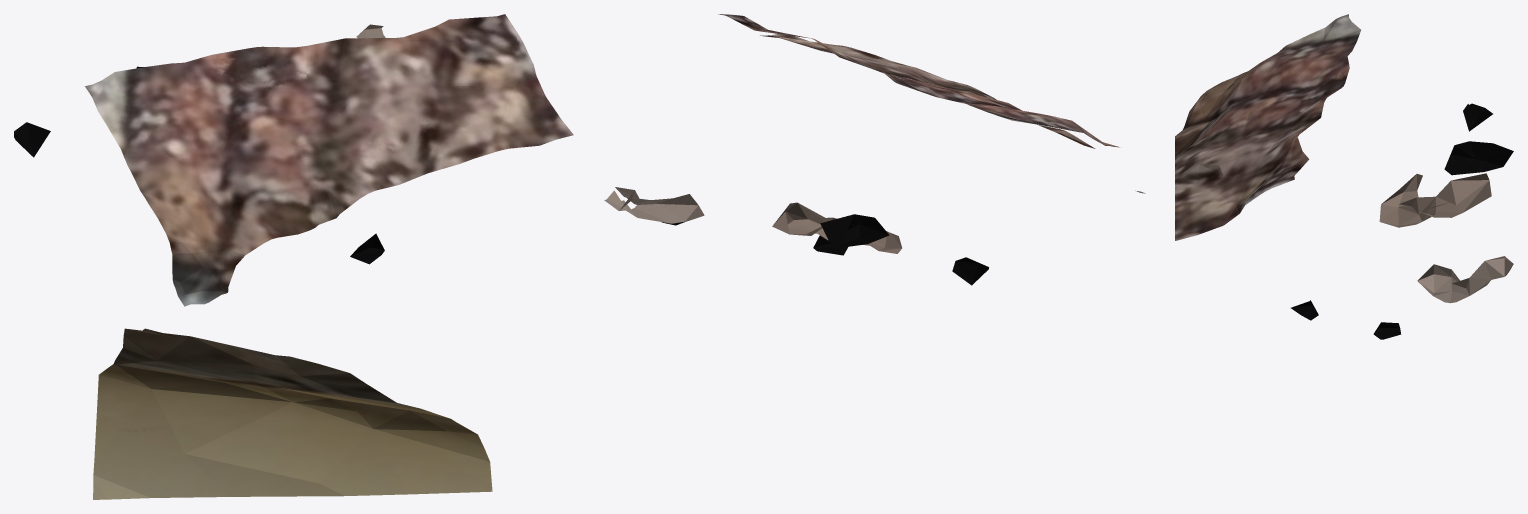
3 renders of one model, left to right at view 1: azimuth 30°, elevation 25°; view 2: azimuth 150°, elevation 25°; view 3: azimuth 270°, elevation 25°, orthographic. The views are drawn at different scales.
Size of the model in its own units: 0.8374 by 0.8374 by 0.7245.
2 materials, 2 textured.
